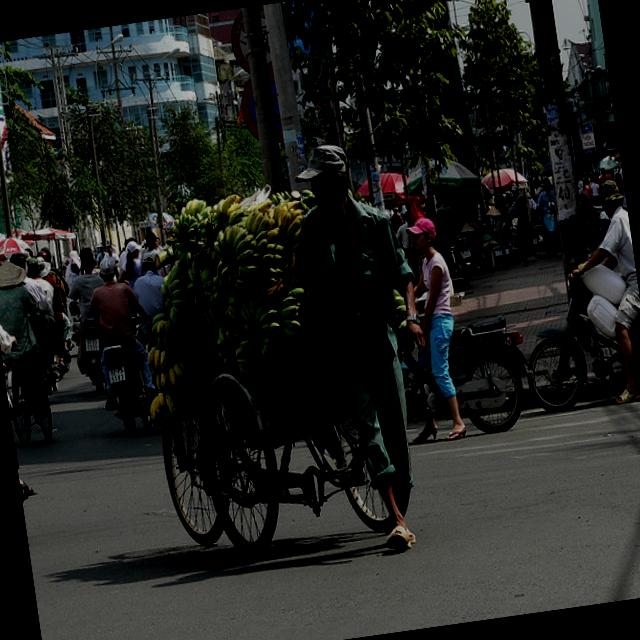Vehicle: (392, 311, 544, 444), (513, 269, 640, 416), (0, 331, 46, 539), (94, 340, 155, 442), (495, 210, 548, 264), (80, 319, 110, 396), (48, 328, 72, 390), (132, 313, 152, 335)
